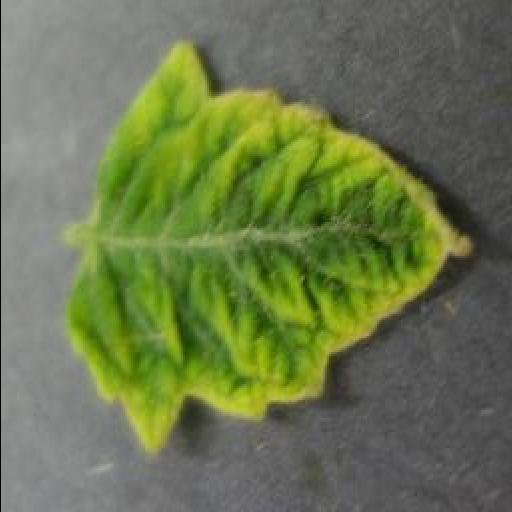disease_tomato: (62, 40, 478, 454)
